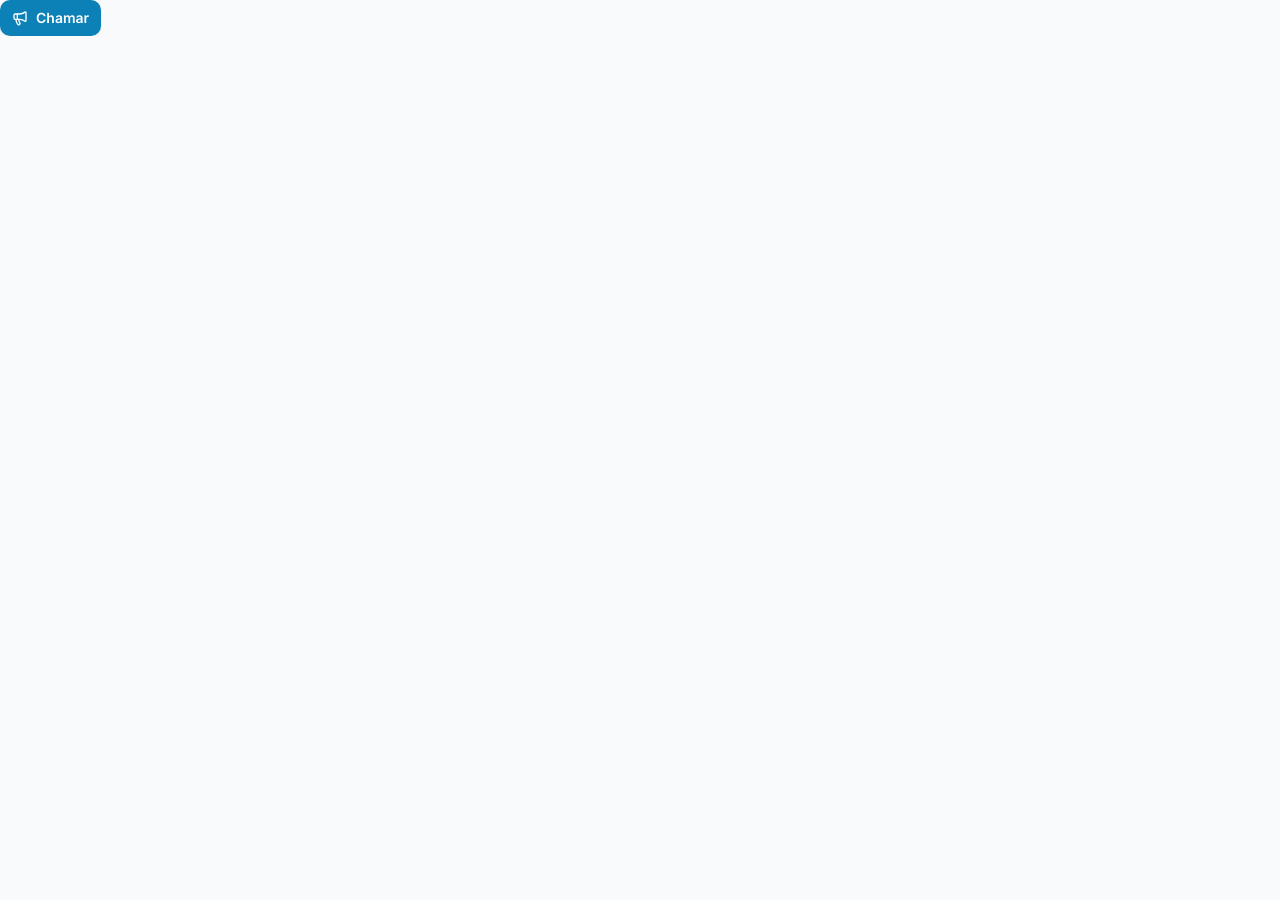
botão de chamadas › pré-seleciona a sala cadastrada do profissional e mantém o seletor disponível
The image size is (1280, 900).
Later steps or results of the test are not shown.
Click the button with aria-label "Chamar paciente no painel" at point(51, 18), box left=0, top=0, right=101, bottom=36
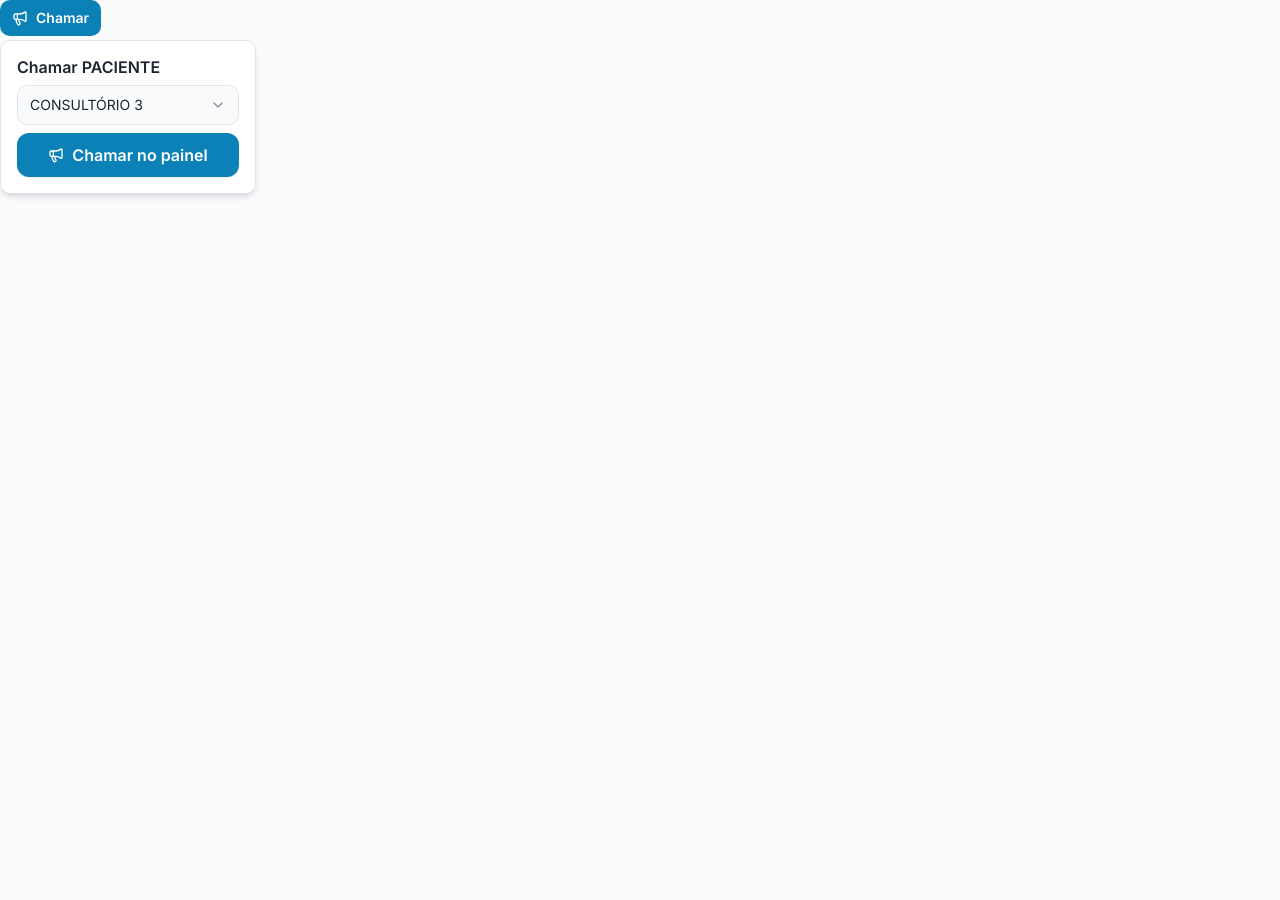
Expected: the button "Chamar no painel" is enabled, left=17, top=133, right=239, bottom=177
Expected: the text "CONSULTÓRIO 3" is shown, left=30, top=95, right=143, bottom=115
Expected: the dropdown is enabled, left=17, top=85, right=239, bottom=125
